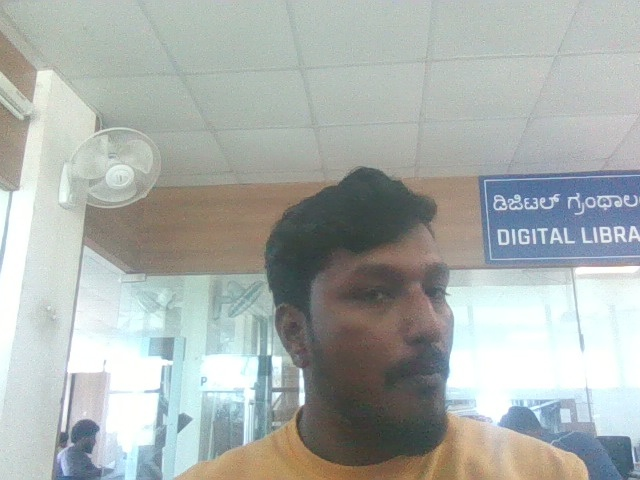real: (276, 149, 476, 432)
